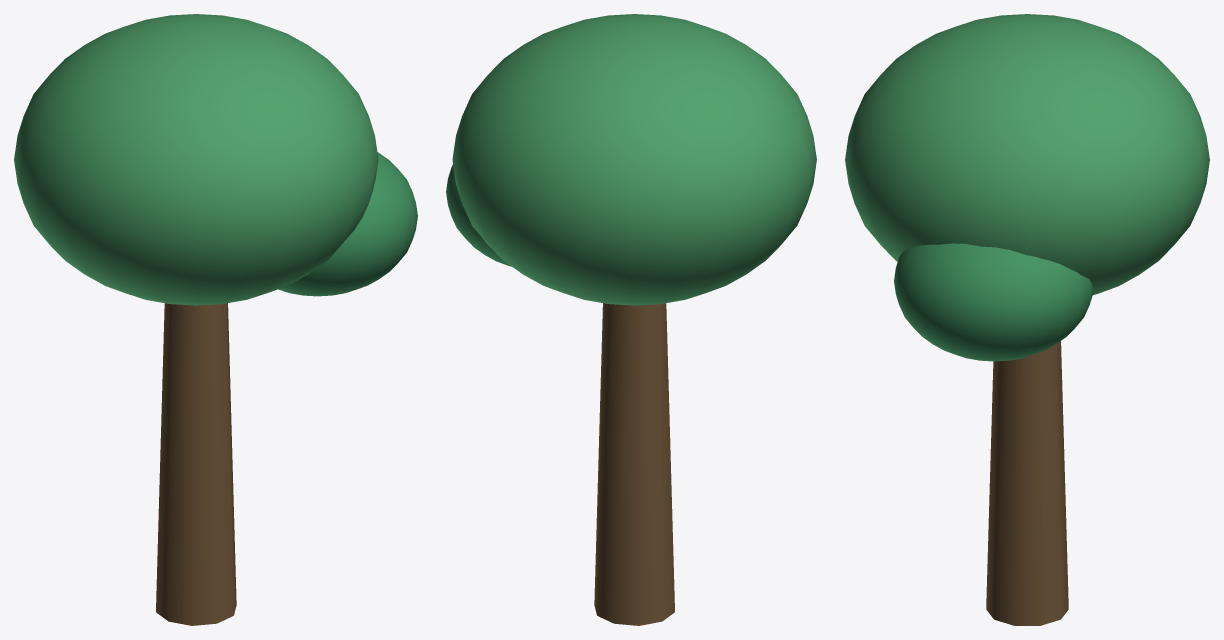
Rendered from tree_round.glb.
3 renders of one model, left to right at view 1: azimuth 30°, elevation 25°; view 2: azimuth 150°, elevation 25°; view 3: azimuth 270°, elevation 25°, orthographic.
Parts seen in each view (by area): view 1: leaf_main, trunk, leaf_side; view 2: leaf_main, trunk, leaf_side; view 3: leaf_main, trunk, leaf_side.
Boxes of the visible parts, x1=… form: leaf_main: x1=14, y1=14, x2=378, y2=305; trunk: x1=156, y1=303, x2=236, y2=625; leaf_side: x1=278, y1=152, x2=417, y2=296; leaf_main: x1=452, y1=14, x2=816, y2=305; trunk: x1=594, y1=303, x2=674, y2=625; leaf_side: x1=446, y1=164, x2=511, y2=266; leaf_main: x1=845, y1=14, x2=1209, y2=295; trunk: x1=986, y1=341, x2=1068, y2=625; leaf_side: x1=894, y1=243, x2=1093, y2=361.
Size of the model in its own units: 0.7336 by 1.15 by 0.6624.
